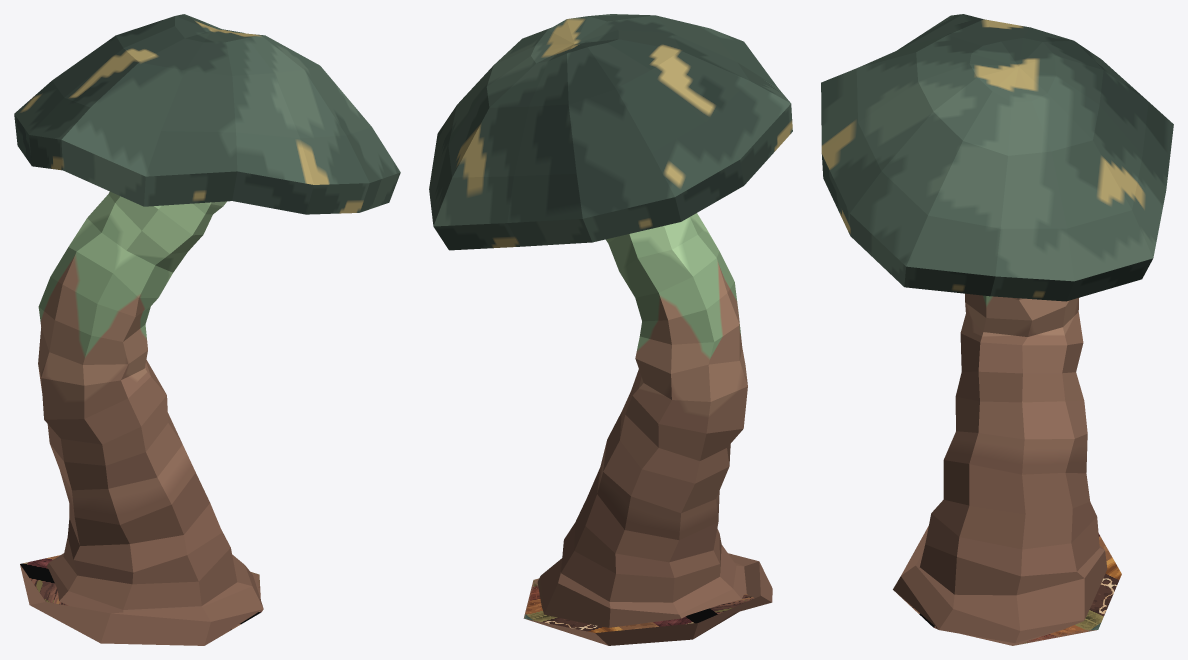
File: SM_AN37_LanternMushroom.fbx
The picture shows the model from 3 angles, left to right: view 1: azimuth 30°, elevation 25°; view 2: azimuth 150°, elevation 25°; view 3: azimuth 270°, elevation 25°; orthographic projection.
Parts seen in each view (by area): view 1: AN37a_Props; view 2: AN37a_Props; view 3: AN37a_Props.
Part boxes in pixels (left/top/right/bottom): AN37a_Props: left=14, top=14, right=400, bottom=645; AN37a_Props: left=429, top=14, right=792, bottom=645; AN37a_Props: left=821, top=14, right=1173, bottom=645.
Size of the model in its own units: 1.58 by 2.51 by 1.41.
